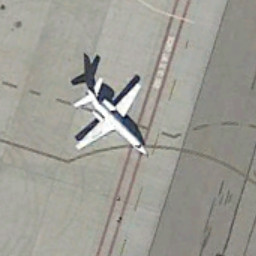Airplane: (67, 71, 157, 166)
